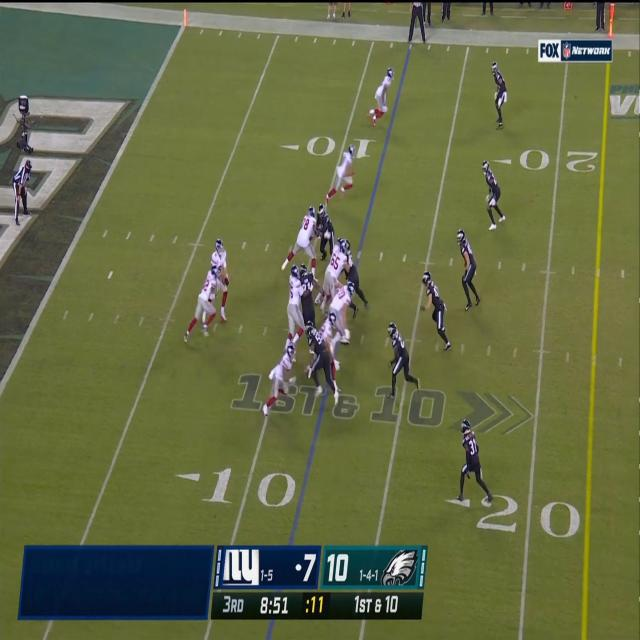football: (223, 273, 230, 288)
players: (458, 421, 496, 513), (307, 315, 342, 414), (262, 336, 298, 424), (184, 266, 221, 346), (284, 203, 320, 282), (386, 322, 421, 402), (423, 270, 454, 356), (326, 142, 362, 210), (316, 245, 352, 312), (284, 268, 313, 350), (456, 229, 482, 315), (326, 282, 362, 343), (209, 238, 234, 324), (479, 161, 508, 234), (490, 61, 511, 131), (373, 67, 397, 126), (316, 203, 336, 269)
